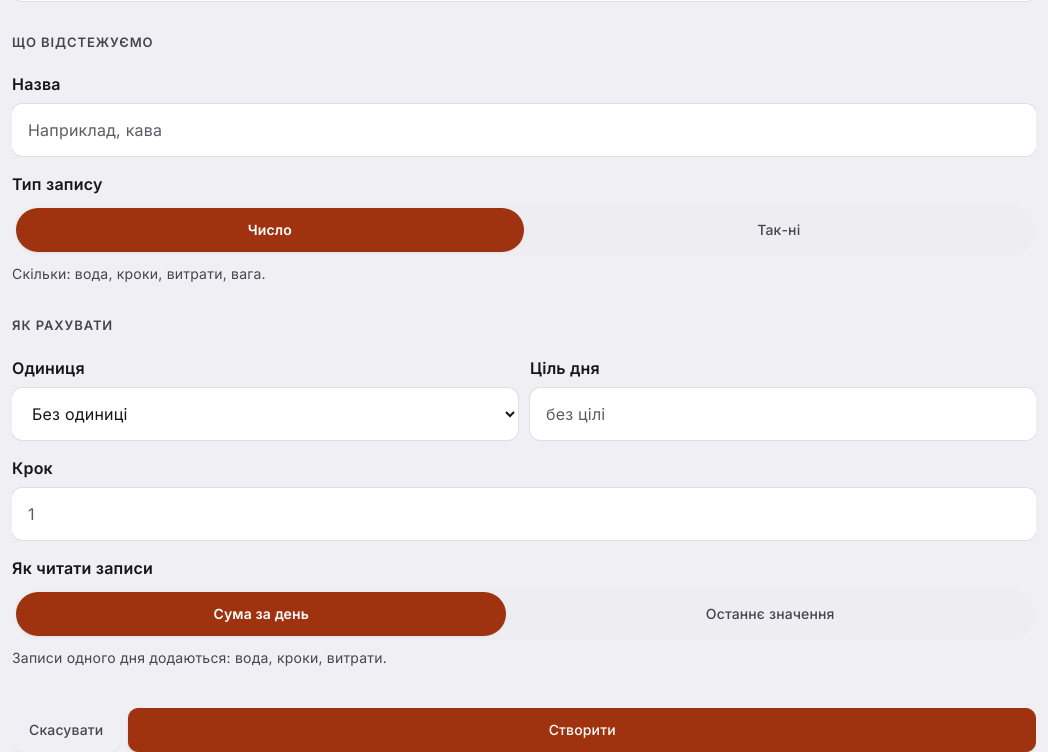
новий трекер › ⛔ порожня назва не йде на сервер
The width and height of the screenshot is (1048, 752).
(page scrolled)
Click the button "Створити" at coordinates (582, 730), box [128,708,1036,751]
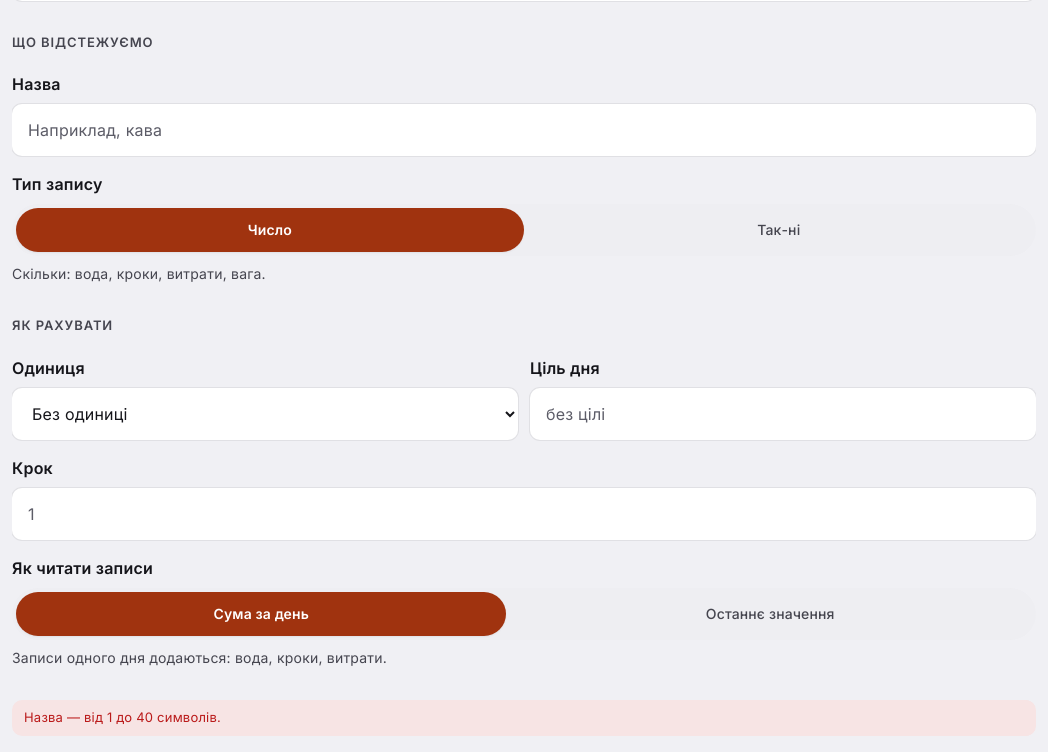
Expected: the text "Назва — від 1 до 40 символів." is shown, [12,700,1036,736]
